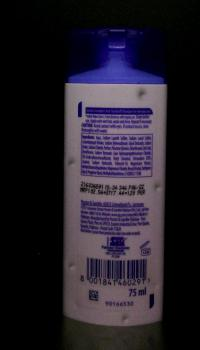dent_unacceptable: (134, 86, 154, 104), (116, 308, 133, 326), (149, 178, 164, 196), (66, 258, 83, 273), (66, 155, 81, 171)
